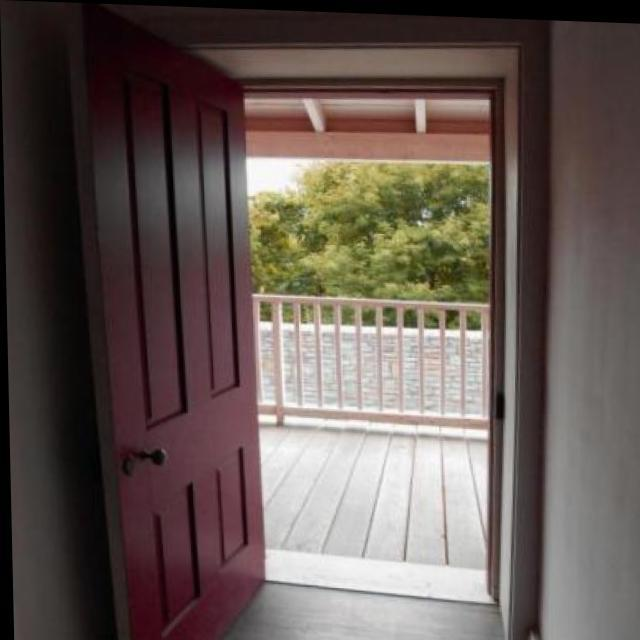door_handle: (124, 440, 174, 480)
